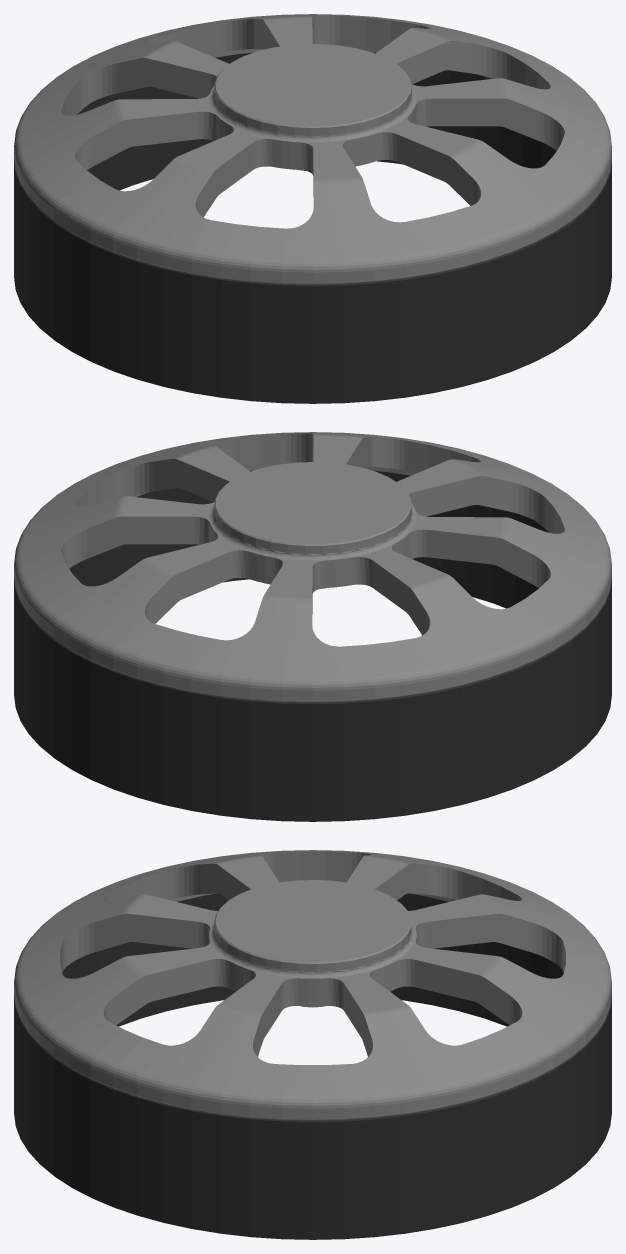
File: 5010Bell.glb
3 renders of one model, top to bottom at view 1: azimuth 30°, elevation 25°; view 2: azimuth 150°, elevation 25°; view 3: azimuth 270°, elevation 25°, orthographic.
Parts seen in each view (by area): view 1: world; view 2: world; view 3: world.
Boxes of the visible parts, left/top/right/bottom form: world: left=14, top=14, right=611, bottom=403; world: left=14, top=432, right=611, bottom=821; world: left=14, top=850, right=611, bottom=1239.
Bounding box in the file's own units: 0.059 × 0.021 × 0.059.
1 material, 1 textured.
